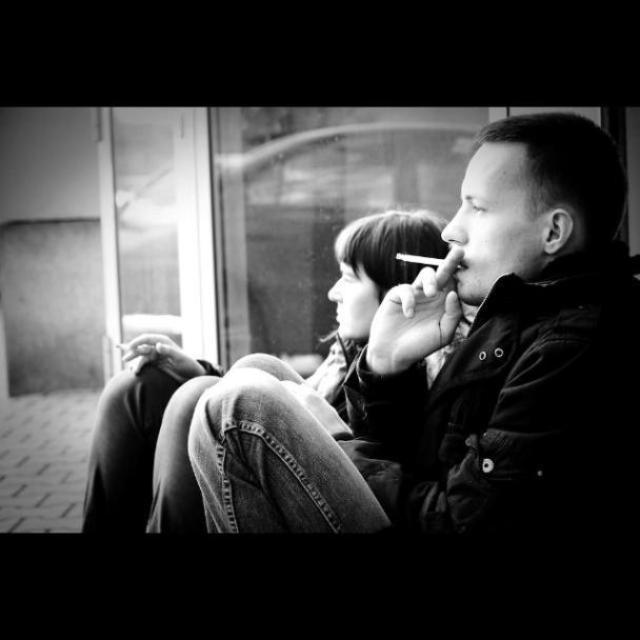rokok: (392, 250, 472, 278)
